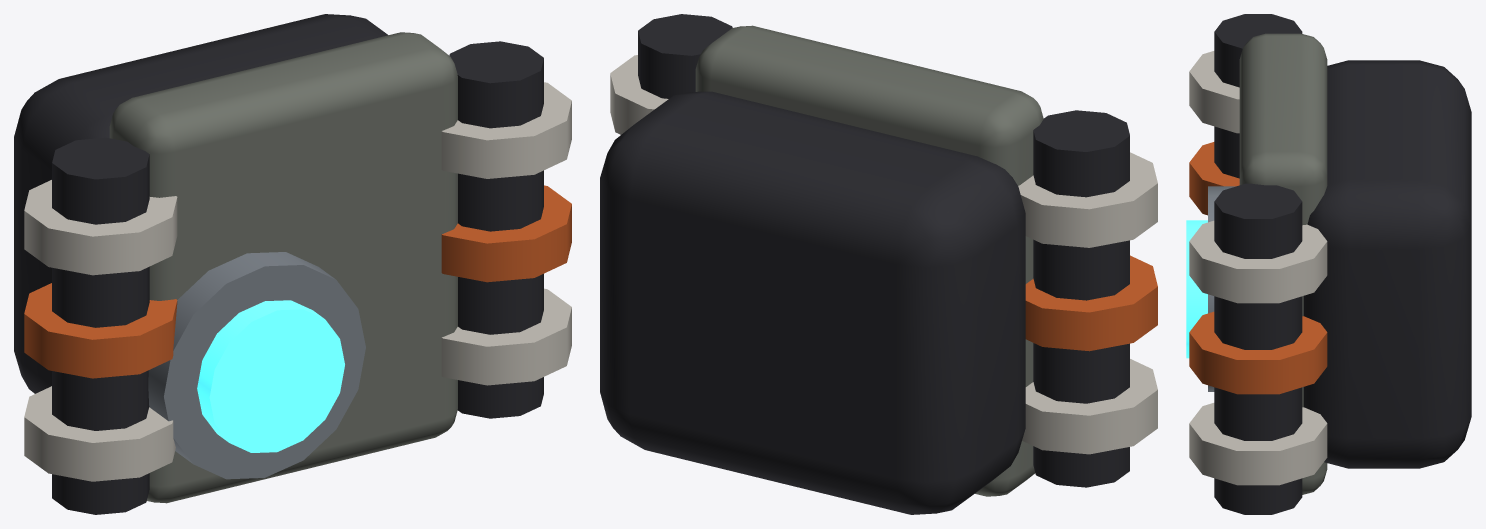
The model's file is co_tesla.glb.
3 renders of one model, left to right at view 1: azimuth 30°, elevation 25°; view 2: azimuth 150°, elevation 25°; view 3: azimuth 270°, elevation 25°, orthographic. The views are drawn at different scales.
Visible parts, largest first — view 1: co_tesla; view 2: co_tesla; view 3: co_tesla.
Part boxes in pixels (box(x1,y1,x2,y2)): co_tesla: box(14, 14, 571, 514); co_tesla: box(600, 14, 1157, 514); co_tesla: box(1186, 14, 1471, 514).
Size of the model in its own units: 0.1826 by 0.129 by 0.0978.
